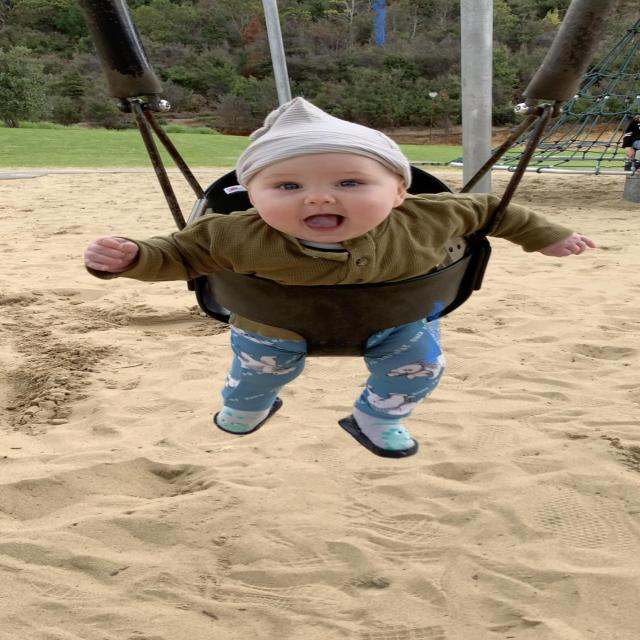child: (88, 94, 592, 462)
